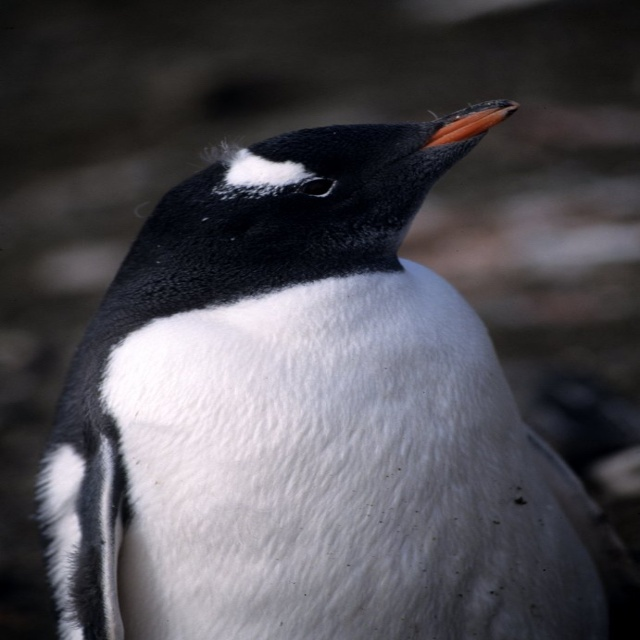Penguin: (28, 93, 639, 640)
